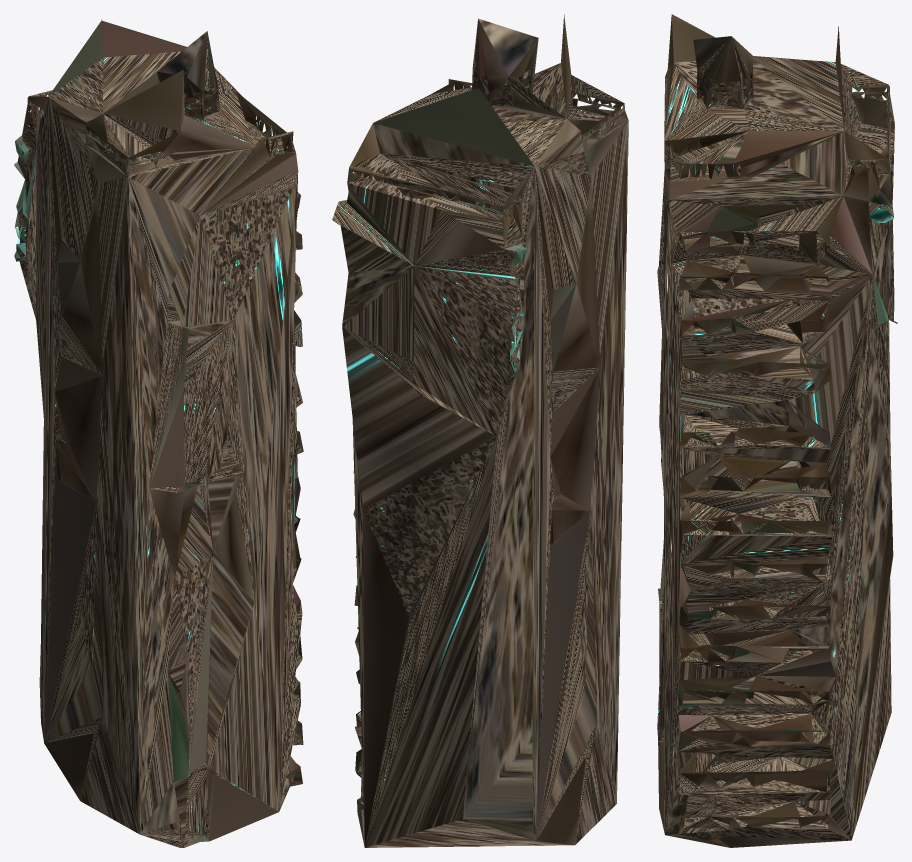
Rendered from b01_far.glb.
3 views of the same model, side by side, from view 1: azimuth 30°, elevation 25°; view 2: azimuth 150°, elevation 25°; view 3: azimuth 270°, elevation 25° (orthographic). The views are drawn at different scales.
Visible parts, largest first — view 1: b01_far; view 2: b01_far; view 3: b01_far.
Part boxes in pixels (x1,y1,x2,y2): b01_far: [14, 19, 303, 847]; b01_far: [332, 14, 628, 847]; b01_far: [657, 14, 897, 847].
Size of the model in its own units: 18.2 by 72 by 19.82.
Materials: 1 (1 with a texture image).
